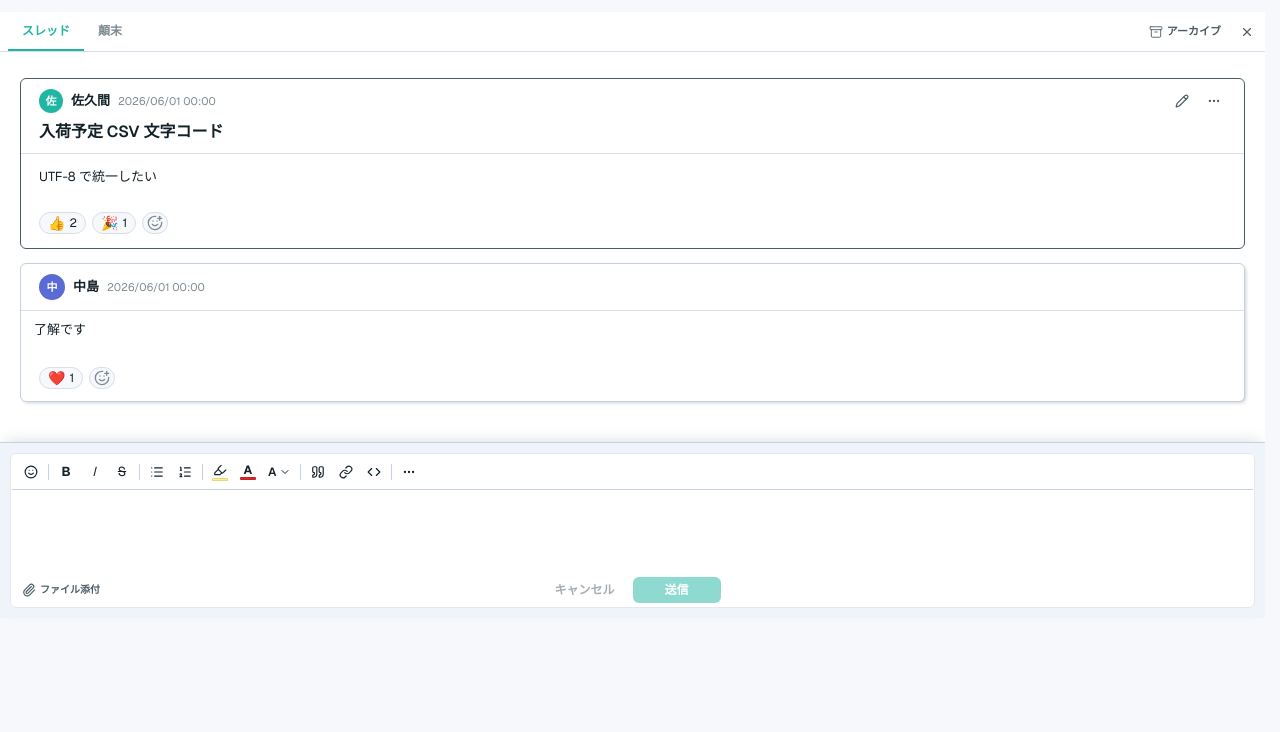
it: ChatThread — 編集クリックとリセット effect の競合（dsk-0431） › リセット effect 消化前の編集クリックが打ち消されないこと（修正前は赤＝クリック無視）
Click the button named "編集". click: [1182, 101]
box: [1170,89,1194,113]
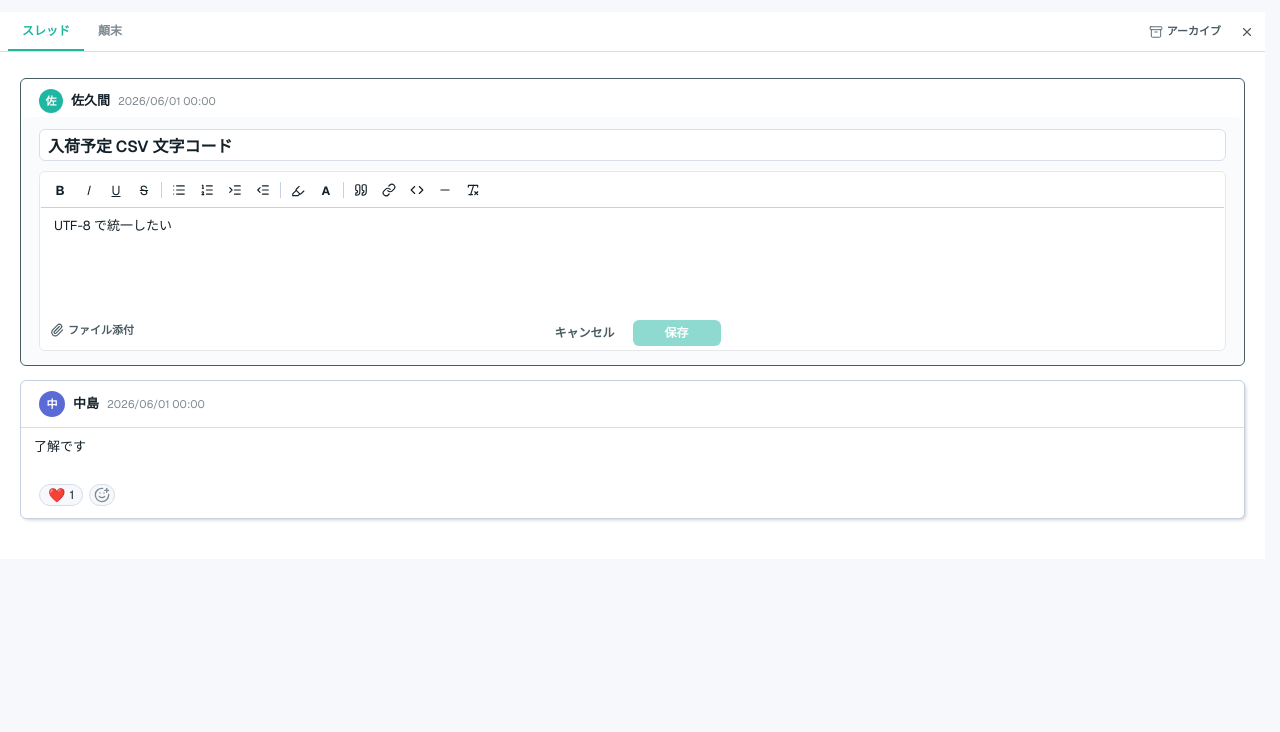
Result: the field named "テーマ題名" is shown at [39,129,1226,161]
